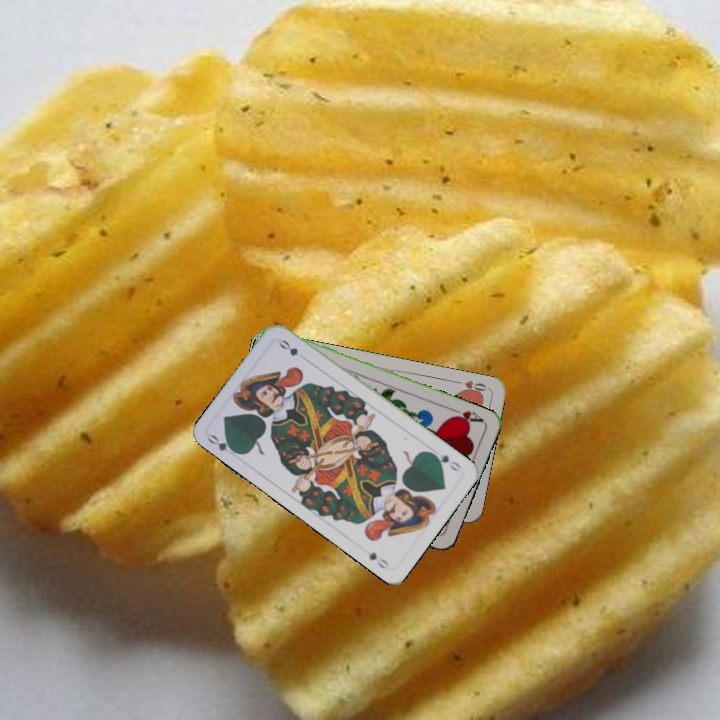GO: (203, 430, 242, 457), (427, 448, 464, 474)
HA: (447, 404, 486, 426)
HO: (450, 376, 491, 397)
